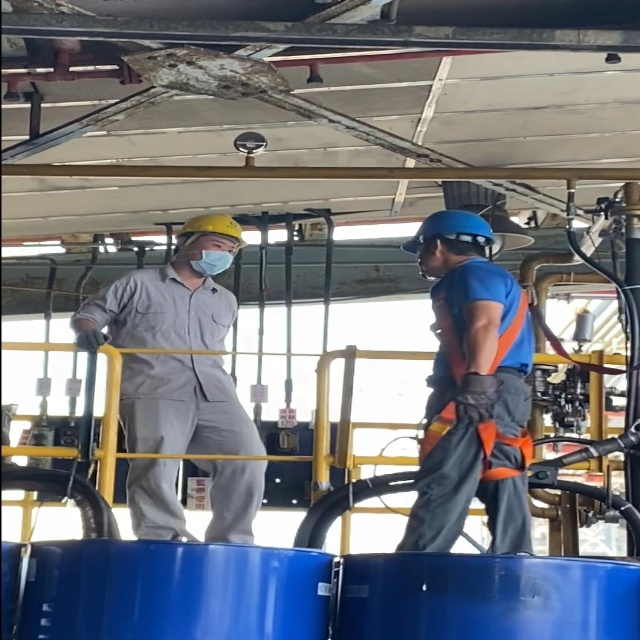Arnes_seguridad: (419, 272, 555, 481)
